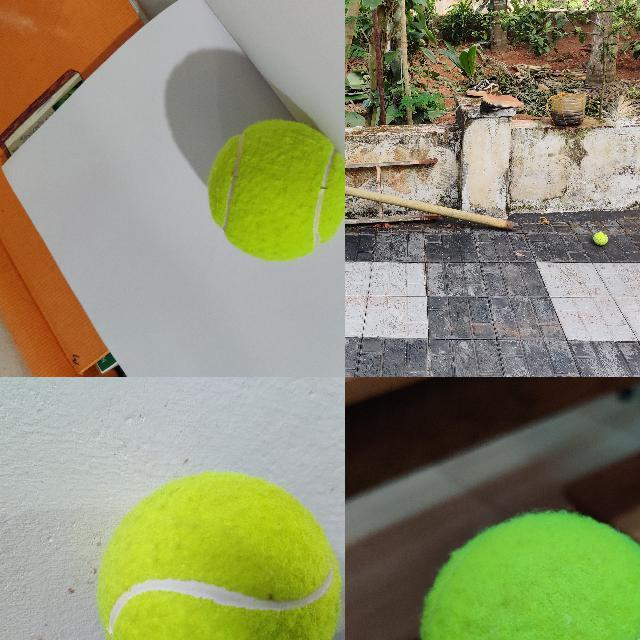tennis-ball: (95, 469, 344, 639), (418, 513, 639, 639), (206, 118, 344, 263), (593, 232, 608, 245)
